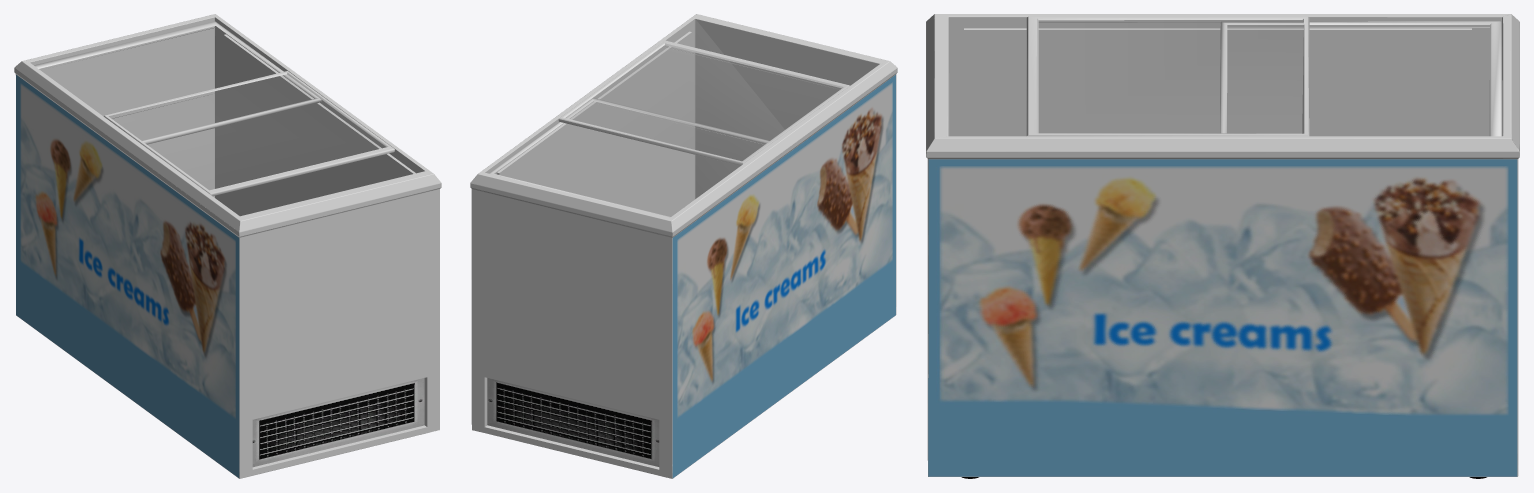
Rendered from freezer.glb.
3 views of the same model, side by side, from view 1: azimuth 30°, elevation 25°; view 2: azimuth 150°, elevation 25°; view 3: azimuth 270°, elevation 25° (orthographic). The views are drawn at different scales.
Parts seen in each view (by area): view 1: freezer, door A, door B; view 2: freezer, door A, door B; view 3: freezer, door A, door B.
Part boxes in pixels (x1,y1,x2,y2): freezer: (14,14,441,478); door A: (103,71,394,196); door B: (34,21,321,144); freezer: (470,14,897,478); door A: (558,40,849,165); door B: (489,98,769,217); freezer: (926,14,1519,478); door A: (1026,16,1309,136); door B: (1220,21,1501,136).
Bounding box in the file's own units: 0.7562 × 0.9478 × 1.46.
Materials: 2 (1 with a texture image).
